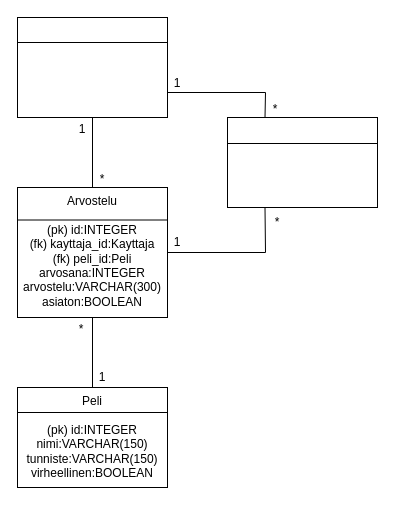
The diagram is 396 pixels wide and 505 high, and some of its shapes have lost their labels. Each missing label, with the centre of its shape:
"Kayttaja (pk) id:INTEGER nimi:VARCHAR(50) salasana:VARCHAR(50) admin:BOOLEAN" goes at (x=92, y=67).
"Tykkays (pk) id:INTEGER (fk) kayttaja_id:Kayttaja (fk) arvostelu_id:Arvostelu" goes at (x=302, y=162).
